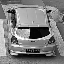mobil: (5, 4, 56, 57)
